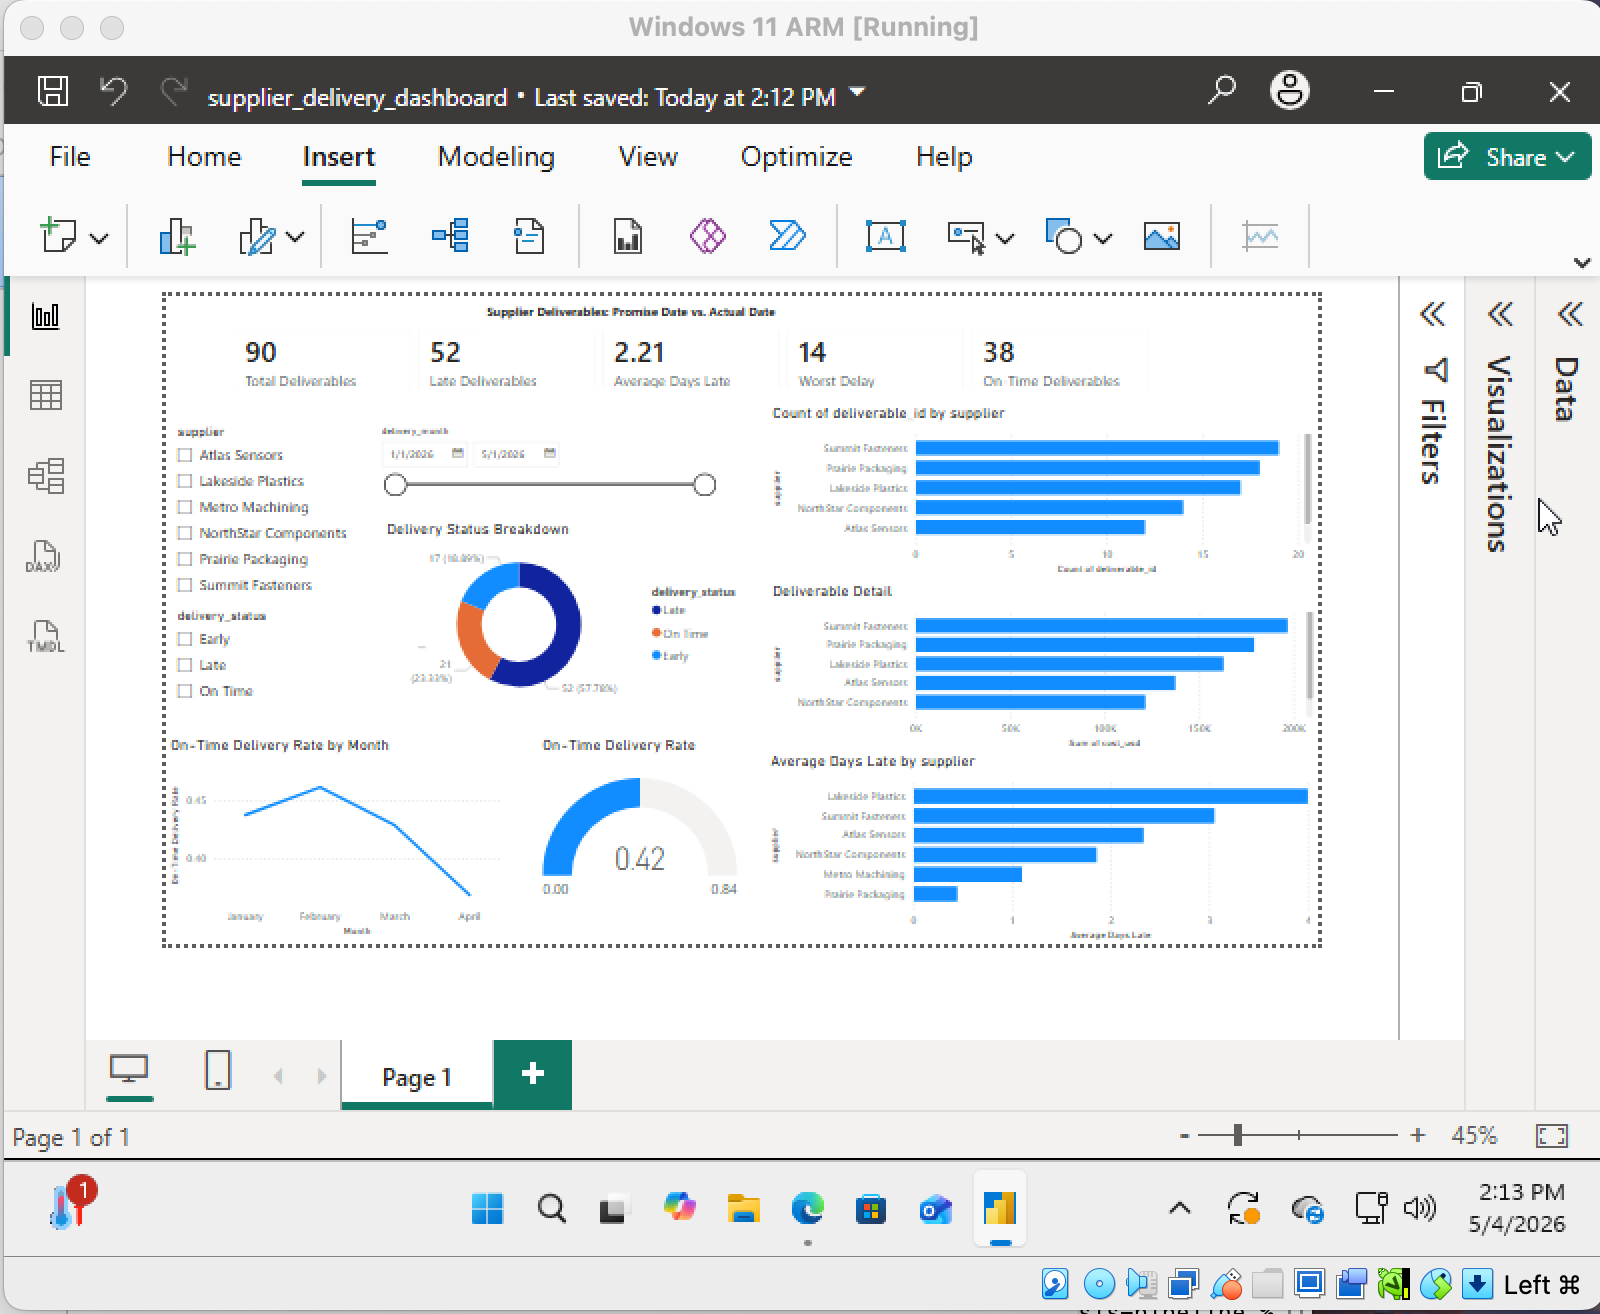

What the dashboard file says about the page in this screenshot:
{"tool":"powerbi","page":{"name":"Page 1","canvas":[1280,720],"ordinal":0},"visuals":[{"type":"cardVisual","fields":{"Data":["supplier_delivery_sample.Total Deliverables","supplier_delivery_sample.Late Deliverables","supplier_delivery_sample.Average Days Late","supplier_delivery_sample.Worst Delay","supplier_delivery_sample.On-Time Deliverables"]},"box":[57.8,20,1053.3,100],"z":0},{"type":"clusteredBarChart","fields":{"Y":["supplier_delivery_sample.Average Days Late"],"Category":["supplier_delivery_sample.supplier"]},"box":[666.7,506.7,611.1,213.3],"z":1000},{"type":"clusteredBarChart","fields":{"Category":["supplier_delivery_sample.supplier"],"Y":["CountNonNull(supplier_delivery_sample.deliverable_id)"]},"box":[668.9,120,608.9,193.3],"z":2000},{"type":"lineChart","fields":{"Category":["supplier_delivery_sample.delivery_month.Variation.Date Hierarchy.Month"],"Y":["supplier_delivery_sample.On-Time Delivery Rate"]},"box":[0,488.9,375.6,226.7],"z":3000},{"type":"donutChart","title":"Delivery Status Breakdown","fields":{"Category":["supplier_delivery_sample.delivery_status"],"Y":["CountNonNull(supplier_delivery_sample.deliverable_id)"]},"box":[240,248.9,413.3,213.3],"z":4000},{"type":"clusteredBarChart","title":"Deliverable Detail","fields":{"Category":["supplier_delivery_sample.supplier"],"Y":["Sum(supplier_delivery_sample.cost_usd)"]},"box":[668.9,317.8,611.1,188.9],"z":5000},{"type":"slicer","fields":{"Values":["supplier_delivery_sample.supplier"]},"box":[0,137,238.9,222.2],"z":6000},{"type":"slicer","fields":{"Values":["supplier_delivery_sample.delivery_status"]},"box":[0,342.6,170.4,148.1],"z":7000},{"type":"slicer","fields":{"Values":["supplier_delivery_sample.delivery_month"]},"box":[226.7,137.8,393.3,111.1],"z":8000},{"type":"gauge","fields":{"Y":["supplier_delivery_sample.On-Time Delivery Rate"]},"box":[413.3,488.9,226.7,213.3],"z":9000},{"type":"textbox","box":[272.3,384.6,20,12.3],"z":9001},{"type":"textbox","box":[351.1,2.2,348.9,35.6],"z":9002}]}

Visuals, with their boxes on the page's 1280x720 design canvas (x1, y1, x2, y2). These are canvas units, not pixel positions in the 1600x1314 screenshot, which may show the page scaled, cropped or inside an application window:
cardVisual - supplier_delivery_sample.Total Deliverables x supplier_delivery_sample.Late Deliverables: 58,20,1111,120
clusteredBarChart - supplier_delivery_sample.Average Days Late x supplier_delivery_sample.supplier: 667,507,1278,720
clusteredBarChart - supplier_delivery_sample.supplier x CountNonNull(supplier_delivery_sample.deliverable_id): 669,120,1278,313
lineChart - supplier_delivery_sample.delivery_month.Variation.Date Hierarchy.Month x supplier_delivery_sample.On-Time Delivery Rate: 0,489,376,716
"Delivery Status Breakdown" donutChart: 240,249,653,462
"Deliverable Detail" clusteredBarChart: 669,318,1280,507
slicer - supplier_delivery_sample.supplier: 0,137,239,359
slicer - supplier_delivery_sample.delivery_status: 0,343,170,491
slicer - supplier_delivery_sample.delivery_month: 227,138,620,249
gauge - supplier_delivery_sample.On-Time Delivery Rate: 413,489,640,702
textbox: 272,385,292,397
textbox: 351,2,700,38
